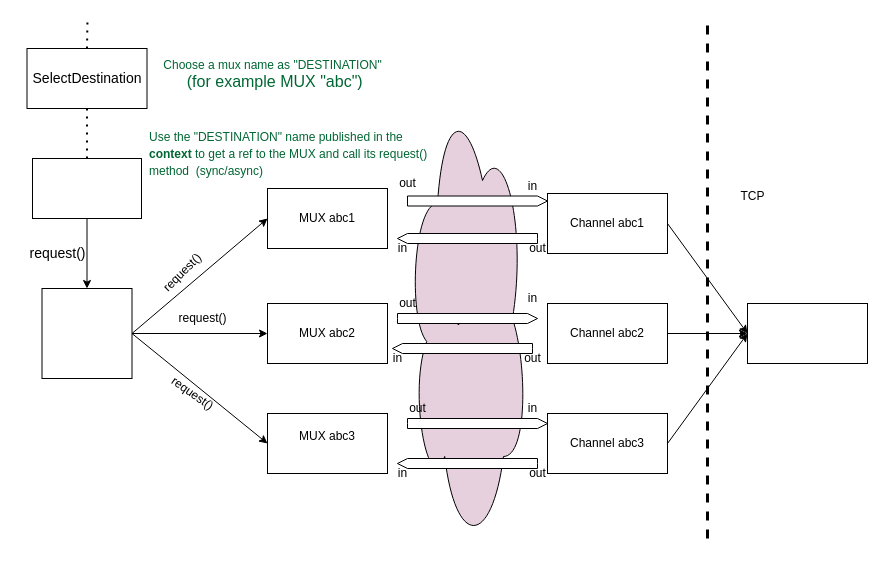
The diagram is 885 pixels wide and 566 high, and some of its shapes have lost their labels. The centre of each missing label's shape, as x and y in pixels:
"Issuer ABC" belongs at point 807,333.
"MUXPool abc" belongs at point 86,333.
"QueryHost" belongs at point 87,188.
